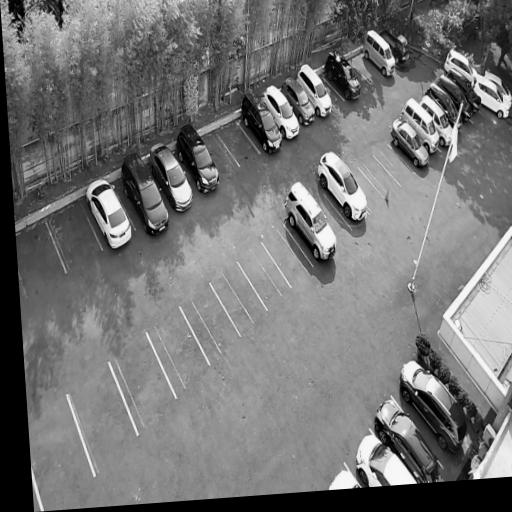Car: (392, 346, 474, 460), (369, 389, 445, 483), (278, 175, 343, 270), (113, 147, 174, 242), (311, 144, 372, 231), (80, 169, 136, 255), (349, 422, 419, 487), (144, 134, 196, 218), (172, 118, 226, 198), (236, 83, 288, 159), (398, 95, 442, 156), (260, 81, 303, 143), (320, 45, 365, 102), (295, 59, 337, 120), (387, 113, 431, 171), (360, 22, 399, 80), (278, 72, 318, 128), (423, 80, 465, 133), (419, 94, 456, 149), (435, 73, 475, 123), (470, 72, 511, 120), (444, 67, 483, 114), (378, 20, 411, 64), (441, 46, 477, 83), (323, 460, 365, 491), (483, 69, 512, 109)
Space Available: (29, 392, 96, 511), (67, 362, 138, 474), (110, 332, 176, 434), (146, 305, 210, 397), (180, 283, 242, 364), (210, 260, 268, 336), (46, 201, 103, 272), (16, 219, 66, 297), (237, 243, 291, 310), (261, 223, 313, 287), (357, 155, 402, 199), (217, 121, 260, 165), (373, 144, 415, 186), (201, 129, 239, 174), (314, 193, 352, 238), (350, 165, 385, 207), (349, 51, 384, 84), (320, 74, 345, 105), (348, 58, 372, 87)
